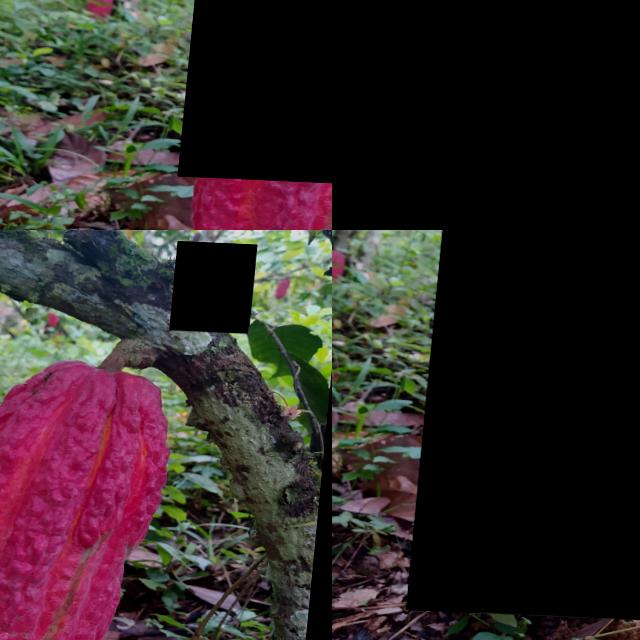Monilia: (186, 0, 332, 184)
Sana: (417, 230, 640, 615), (332, 0, 640, 230), (172, 237, 259, 328), (332, 246, 354, 279)
